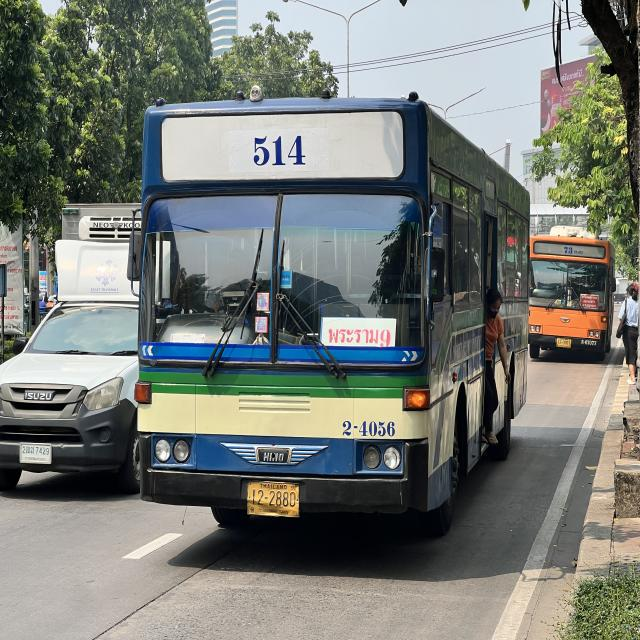BMTA-bus: (125, 79, 534, 541), (528, 222, 617, 365)
Bus-Line-Number: (227, 129, 330, 172), (562, 246, 584, 256)
Destination-Sign-Extra-Bus: (322, 319, 395, 348), (581, 294, 600, 308)
